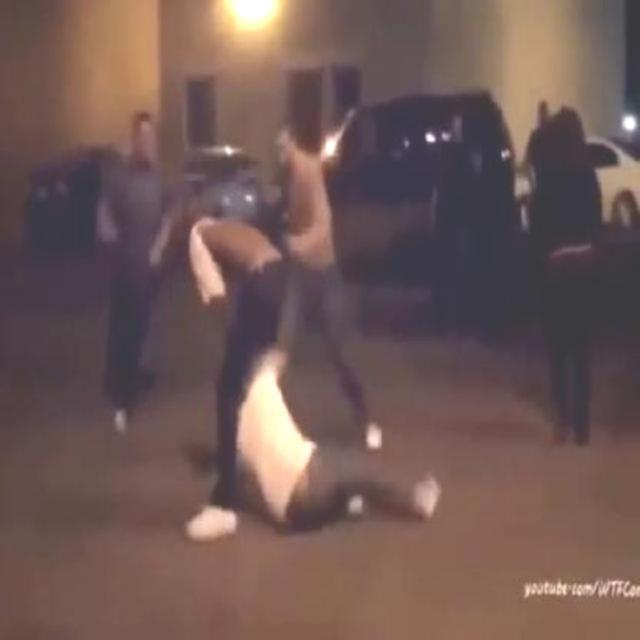fight: (178, 205, 304, 542)
